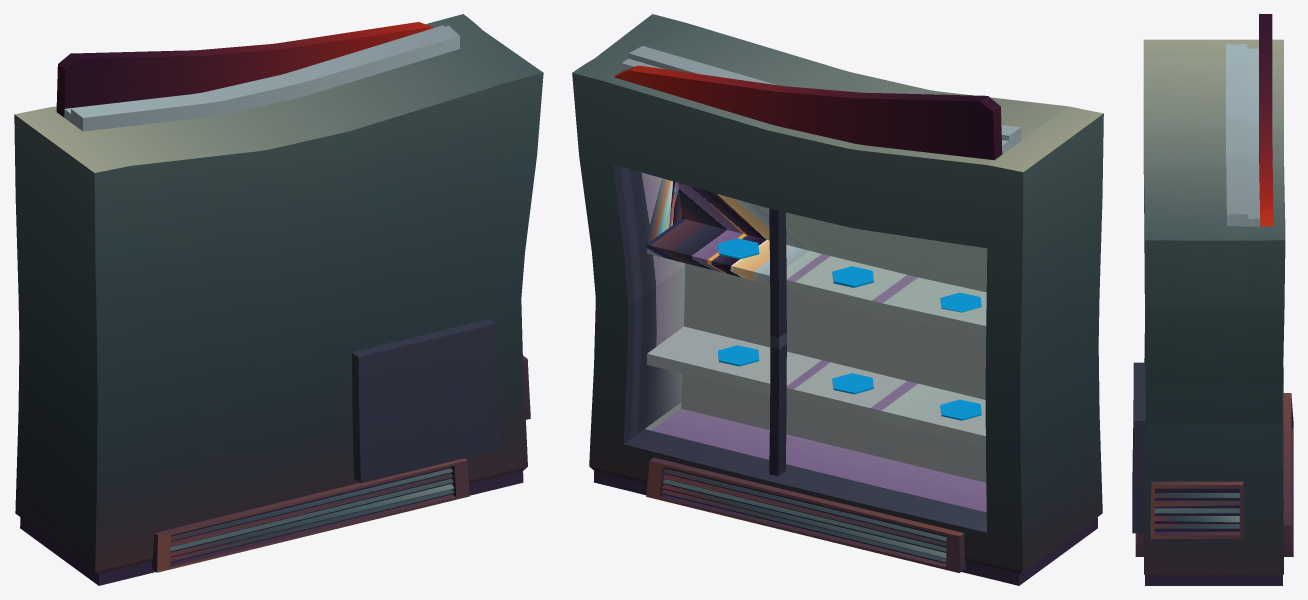
The model's file is Prop_DrinkCooler.fbx.
The picture shows the model from 3 angles, left to right: view 1: azimuth 30°, elevation 25°; view 2: azimuth 150°, elevation 25°; view 3: azimuth 270°, elevation 25°; orthographic projection. The views are drawn at different scales.
Visible parts, largest first — view 1: BaseCooler.002; view 2: BaseCooler.002; view 3: BaseCooler.002.
Boxes of the visible parts, x1=… form: BaseCooler.002: x1=14, y1=14, x2=543, y2=585; BaseCooler.002: x1=572, y1=14, x2=1103, y2=585; BaseCooler.002: x1=1132, y1=14, x2=1293, y2=585.
Bounding box in the file's own units: 168 × 167 × 59.64.
